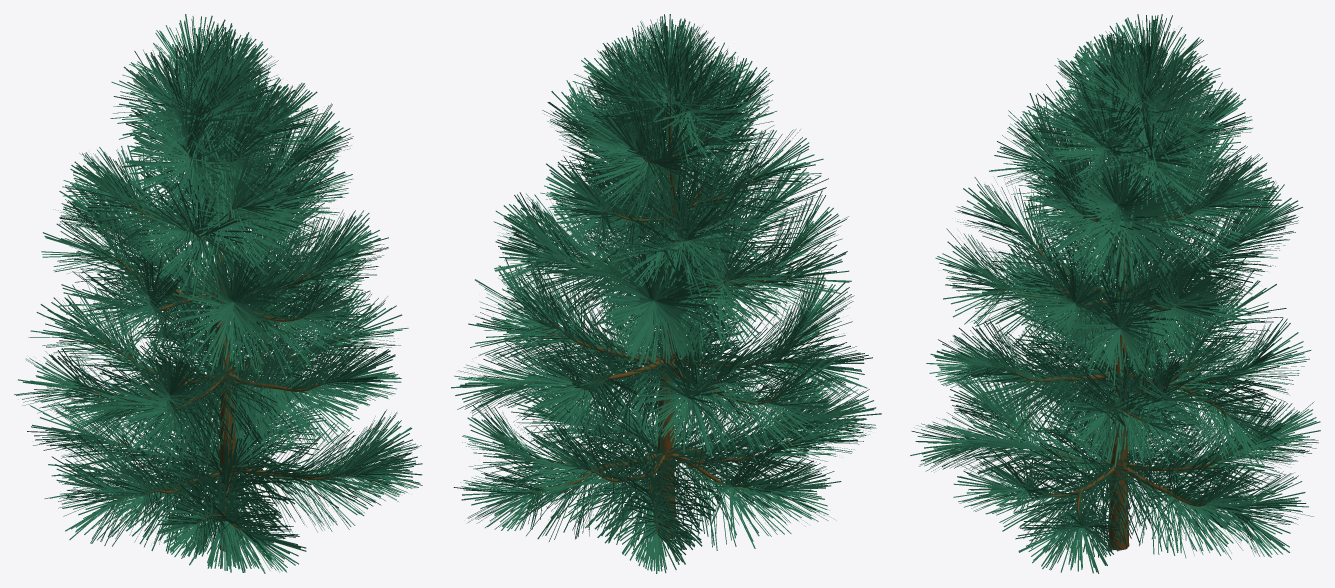
The model's file is small_pine_2.glb.
3 views of the same model, side by side, from view 1: azimuth 30°, elevation 25°; view 2: azimuth 150°, elevation 25°; view 3: azimuth 270°, elevation 25° (orthographic).
Visible parts, largest first — view 1: leaves, tree; view 2: leaves, tree; view 3: leaves, tree.
Part boxes in pixels (x1,y1,x2,y2): leaves: [14, 14, 422, 573]; tree: [80, 103, 359, 551]; leaves: [451, 14, 881, 573]; tree: [509, 87, 802, 538]; leaves: [910, 14, 1320, 573]; tree: [988, 102, 1246, 550].
Bounding box in the file's own units: 2.77 × 3.86 × 2.75.
